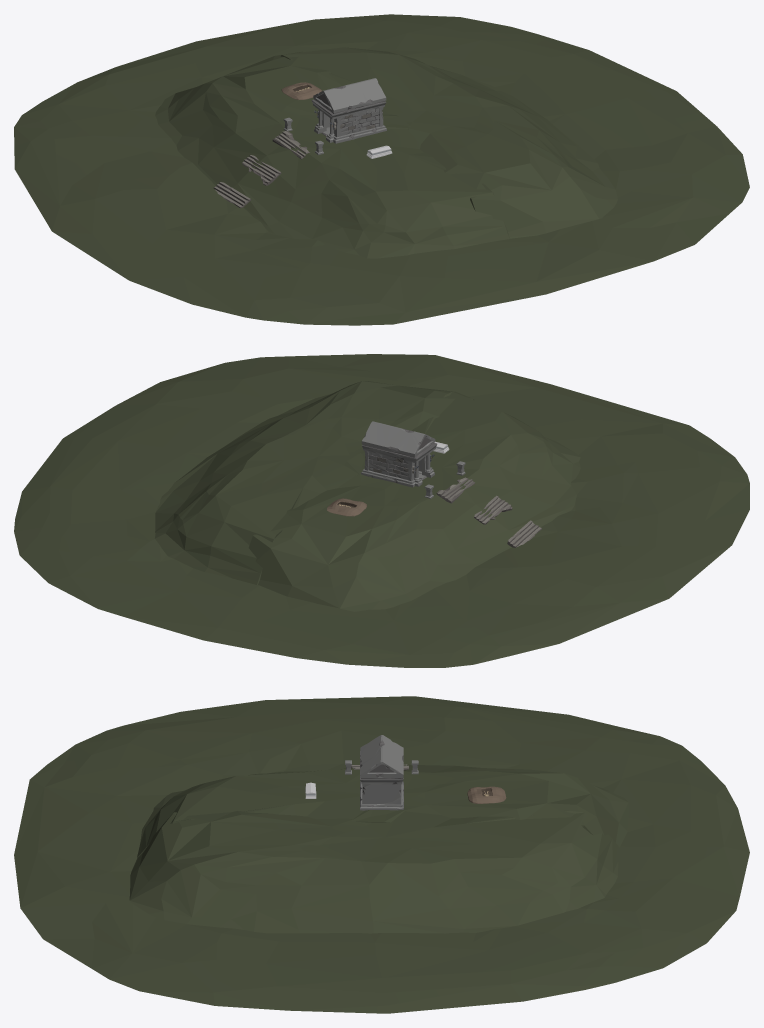
File: graveyardScene.glb
3 renders of one model, top to bottom at view 1: azimuth 30°, elevation 25°; view 2: azimuth 150°, elevation 25°; view 3: azimuth 270°, elevation 25°, orthographic. The views are drawn at different scales.
Visible parts, largest first — view 1: SM_Env_Grass_Mound_Large_01, SM_Env_Grass_Mound_Ramp_01, SM_Env_Grass_Mound_Ramp_01.001, SM_Env_Entrance_Crypt_01, SM_Env_Stairs_Broken_02; view 2: SM_Env_Grass_Mound_Large_01, SM_Env_Grass_Mound_Ramp_01, SM_Env_Grass_Mound_Ramp_01.001, SM_Env_Entrance_Crypt_01, SM_Env_Entrance_Dirt_01; view 3: SM_Env_Grass_Mound_Large_01, SM_Env_Grass_Mound_Ramp_01.001, SM_Env_Grass_Mound_Ramp_01, SM_Env_Entrance_Crypt_01, SM_Env_Entrance_Dirt_01.
Boxes of the visible parts, left/top/right/bottom form: SM_Env_Grass_Mound_Large_01: left=14, top=14, right=749, bottom=325; SM_Env_Grass_Mound_Ramp_01: left=155, top=51, right=509, bottom=258; SM_Env_Grass_Mound_Ramp_01.001: left=281, top=47, right=617, bottom=238; SM_Env_Entrance_Crypt_01: left=311, top=78, right=386, bottom=143; SM_Env_Stairs_Broken_02: left=242, top=155, right=281, bottom=185; SM_Env_Grass_Mound_Large_01: left=14, top=354, right=749, bottom=667; SM_Env_Grass_Mound_Ramp_01: left=248, top=391, right=580, bottom=611; SM_Env_Grass_Mound_Ramp_01.001: left=154, top=381, right=473, bottom=584; SM_Env_Entrance_Crypt_01: left=361, top=421, right=437, bottom=487; SM_Env_Entrance_Dirt_01: left=327, top=498, right=366, bottom=516; SM_Env_Grass_Mound_Large_01: left=14, top=696, right=749, bottom=1013; SM_Env_Grass_Mound_Ramp_01.001: left=129, top=810, right=620, bottom=933; SM_Env_Grass_Mound_Ramp_01: left=137, top=764, right=628, bottom=857; SM_Env_Entrance_Crypt_01: left=360, top=735, right=403, bottom=810; SM_Env_Entrance_Dirt_01: left=467, top=786, right=506, bottom=803.
Bounding box in the file's own units: 33.23 × 4.7 × 32.54.
Materials: 5 (1 with a texture image).
